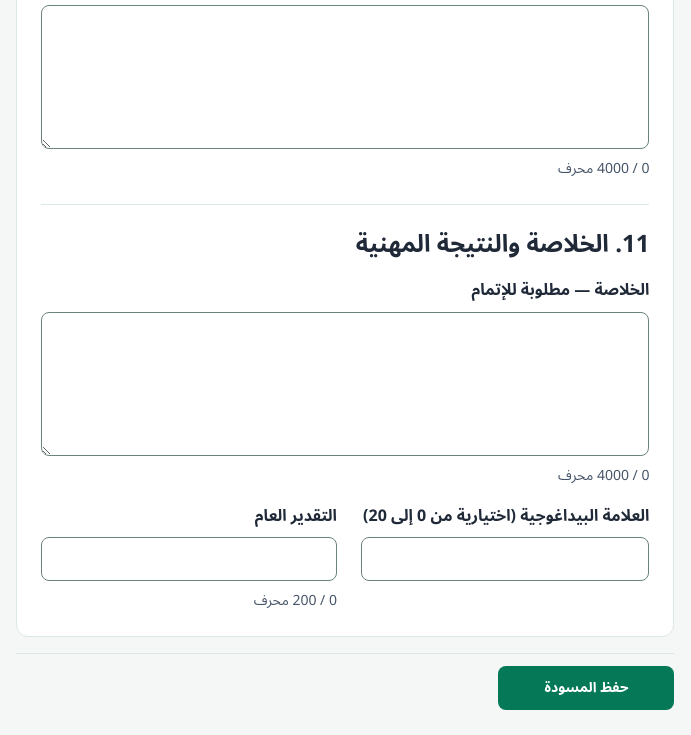
Test case: Inspector Visit Report V1 editor › keeps API mark validation feedback accessible for -0.01
(page scrolled)
In the field labelled "العلامة البيداغوجية (اختيارية من 0 إلى 20)": (506, 559) left=362, top=537, right=650, bottom=581, type "-0.01"
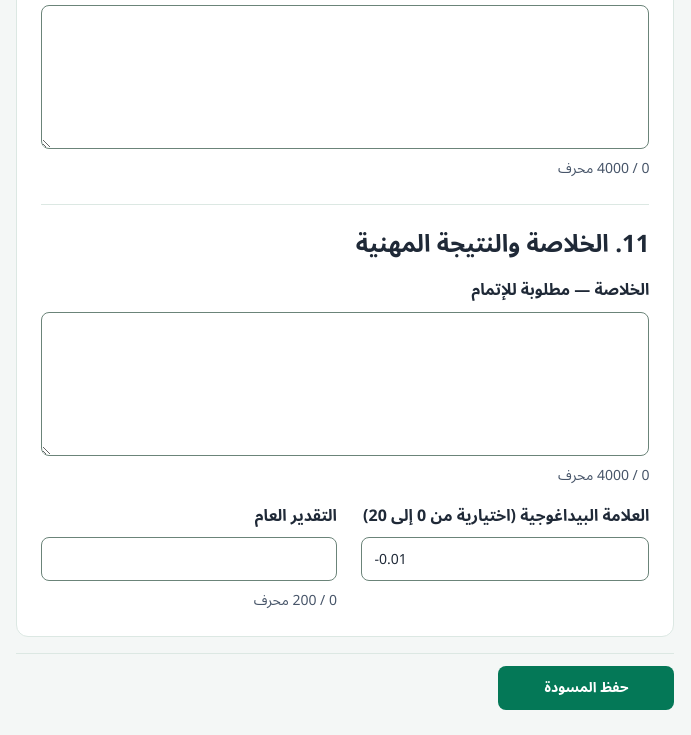
Click the button "حفظ المسودة": (586, 688) left=498, top=666, right=674, bottom=710
(page scrolled)
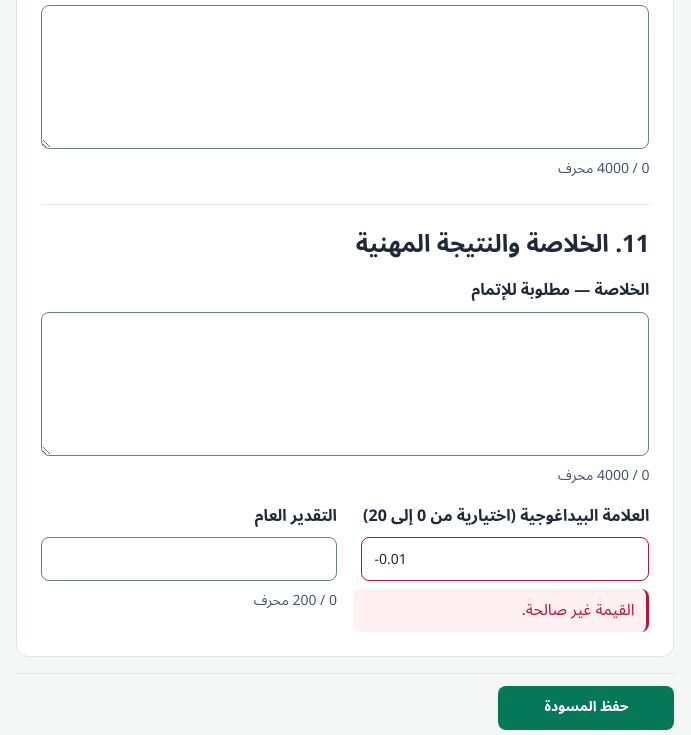
Check: the text "القيمة غير صالحة." is shown, box left=353, top=589, right=650, bottom=632
